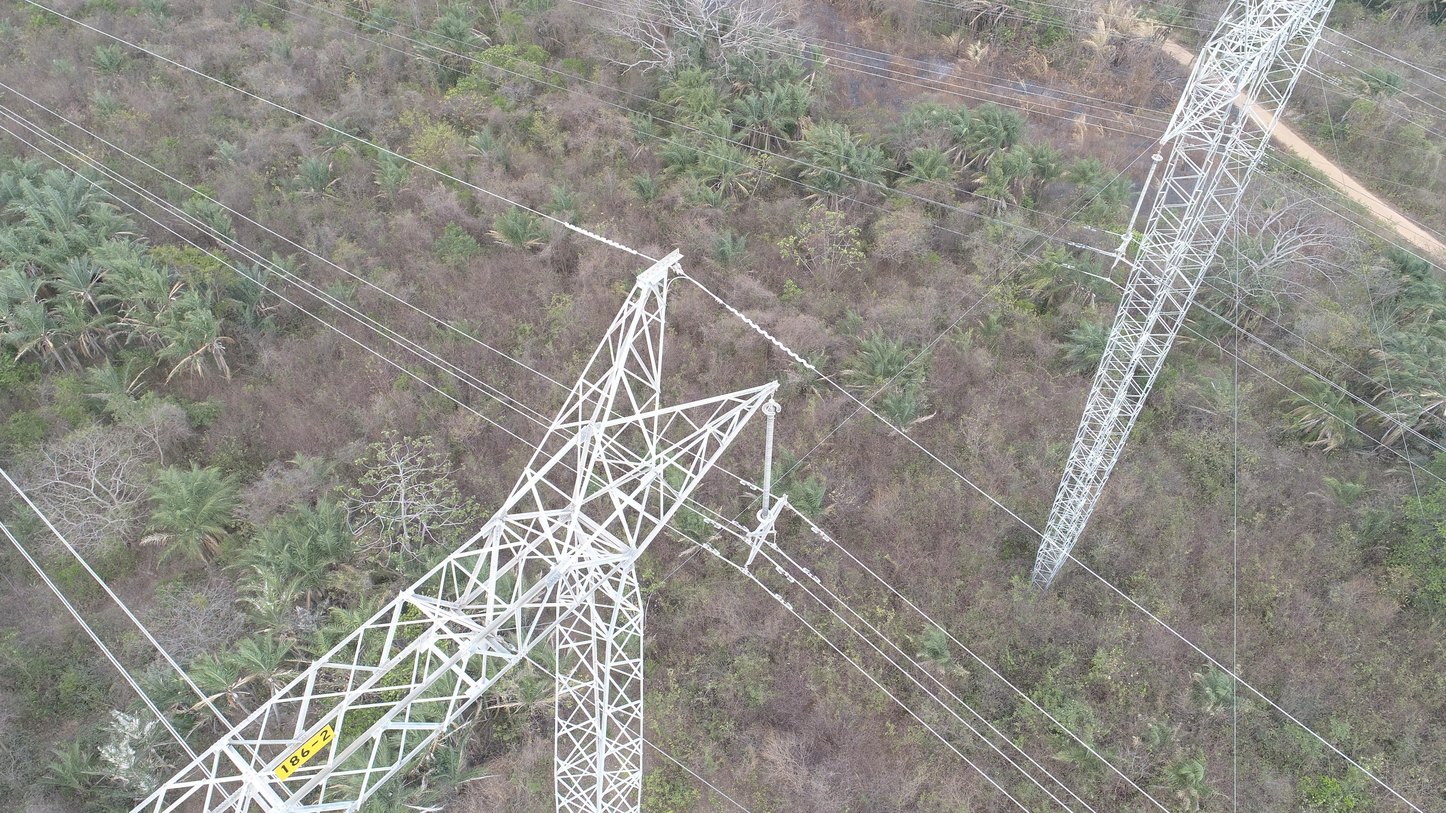power_tower: (0, 246, 792, 813), (1028, 0, 1338, 593)
